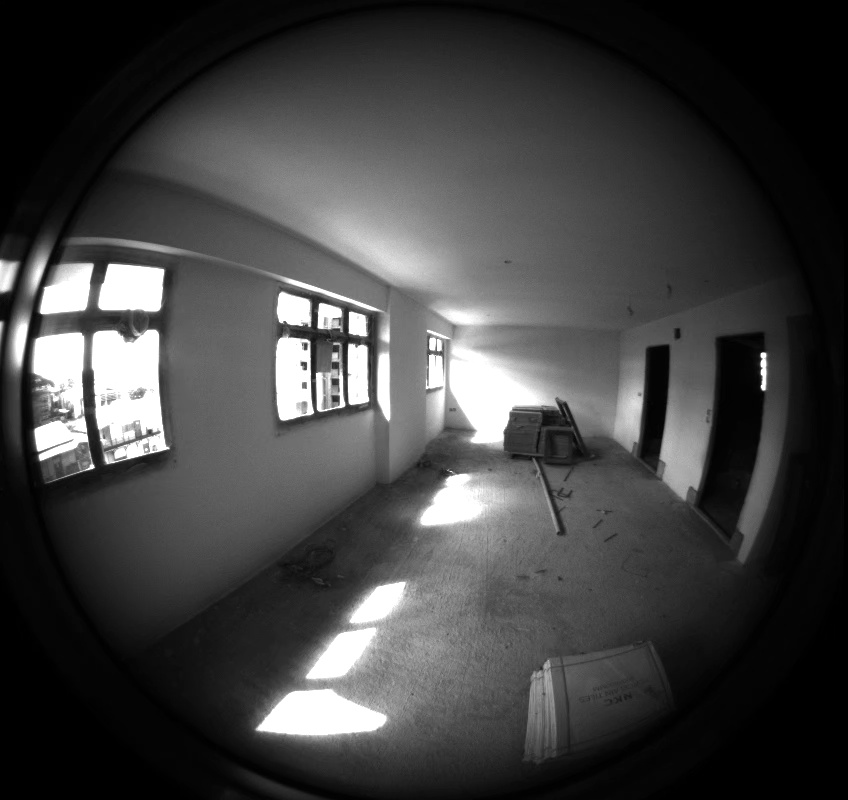Building materials: (149, 121, 671, 762), (39, 49, 542, 455)
Ceiling: (0, 0, 791, 327)
Door: (67, 203, 760, 536), (31, 125, 667, 470)
Floor: (135, 364, 759, 792)
Tools: (53, 33, 334, 576)
Wall: (168, 109, 617, 435)
Windows: (18, 54, 444, 389), (31, 222, 369, 481), (97, 130, 371, 418)
